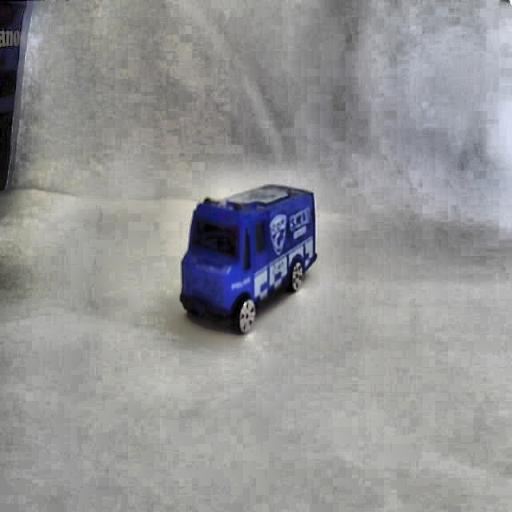police car: (177, 185, 319, 340)
